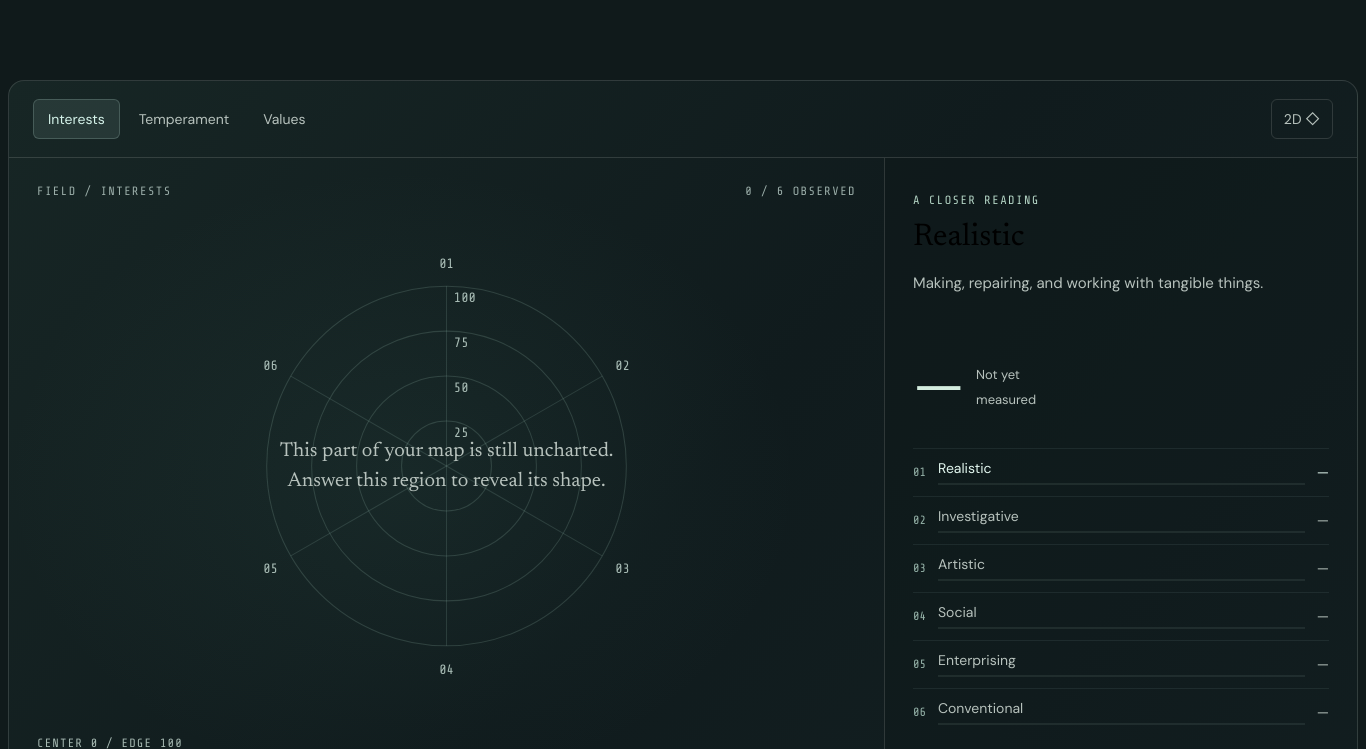
Test: atlas interaction and sample isolation › automatically provides the readable flat chart when canvas is unavailable
This screenshot has width=1366, height=749.
expect the picture named "Flat profile" is shown: met, box [9, 236, 884, 696]
expect the number of buttons named "not yet measured" is 6: met, box [913, 448, 1329, 496]; [913, 496, 1329, 544]; [913, 544, 1329, 592]; [913, 592, 1329, 640]; [913, 640, 1329, 688]; [913, 688, 1329, 736]
Click the button "Temperament": (184,119) [124, 99, 244, 139]
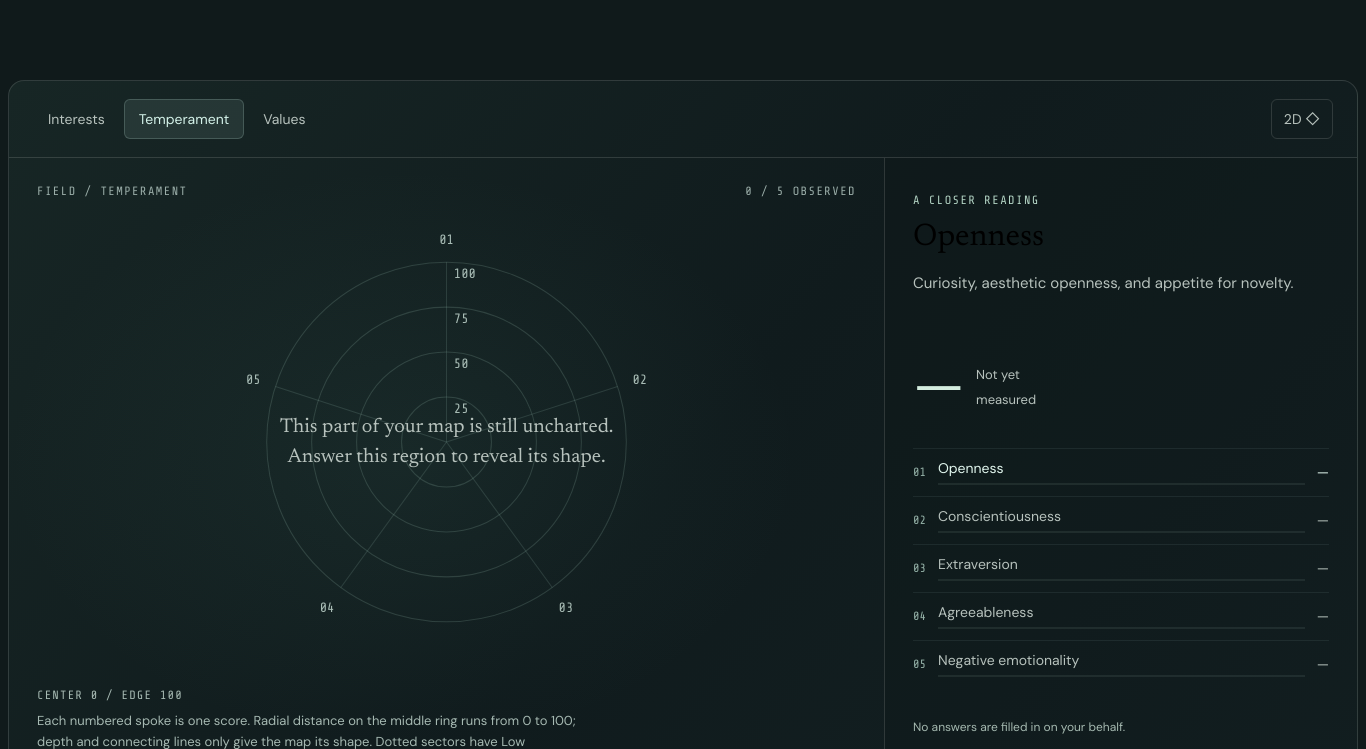
expect the number of buttons named "not yet measured" is 5: met, box [913, 448, 1329, 496]; [913, 496, 1329, 544]; [913, 544, 1329, 592]; [913, 592, 1329, 640]; [913, 640, 1329, 688]
